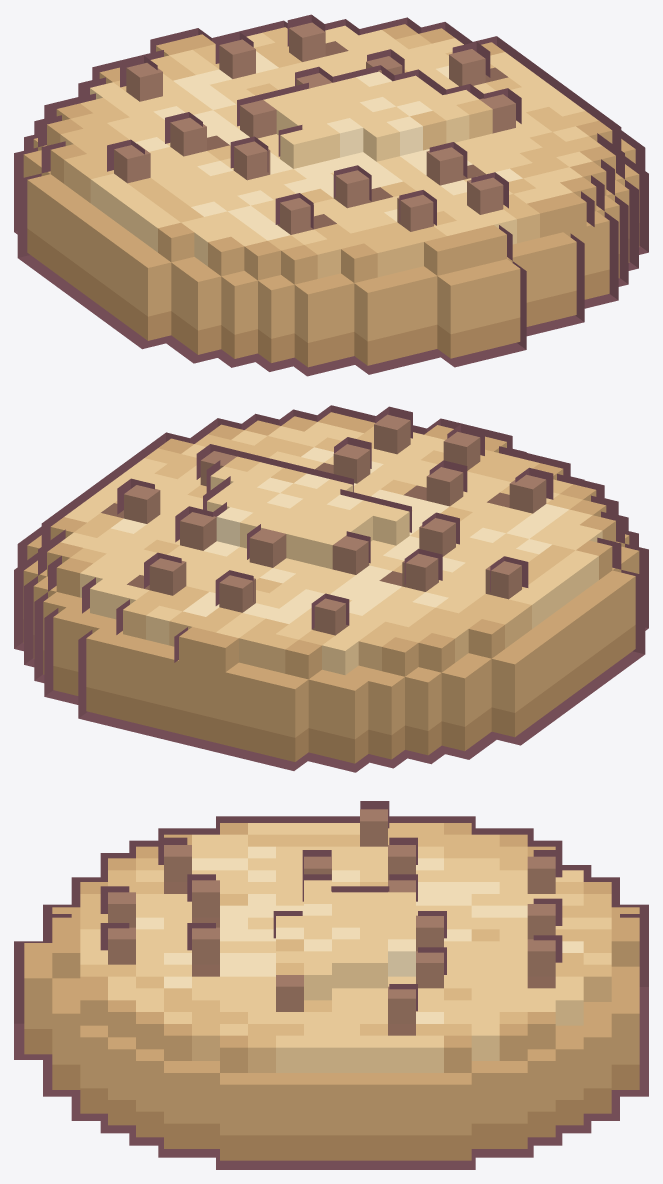
File: cookie3D.glb
3 renders of one model, top to bottom at view 1: azimuth 30°, elevation 25°; view 2: azimuth 150°, elevation 25°; view 3: azimuth 270°, elevation 25°, orthographic. The views are drawn at different scales.
Parts seen in each view (by area): view 1: Massa e cobertura, Contorno; view 2: Massa e cobertura, Contorno; view 3: Massa e cobertura, Contorno.
Boxes of the visible parts, x1=… form: Massa e cobertura: x1=23, y1=22, x2=639, y2=367; Contorno: x1=14, y1=14, x2=648, y2=376; Massa e cobertura: x1=23, y1=412, x2=639, y2=763; Contorno: x1=14, y1=405, x2=648, y2=772; Massa e cobertura: x1=24, y1=809, x2=639, y2=1160; Contorno: x1=14, y1=801, x2=648, y2=1169.
Bounding box in the file's own units: 0.0788 × 0.0197 × 0.0825.
